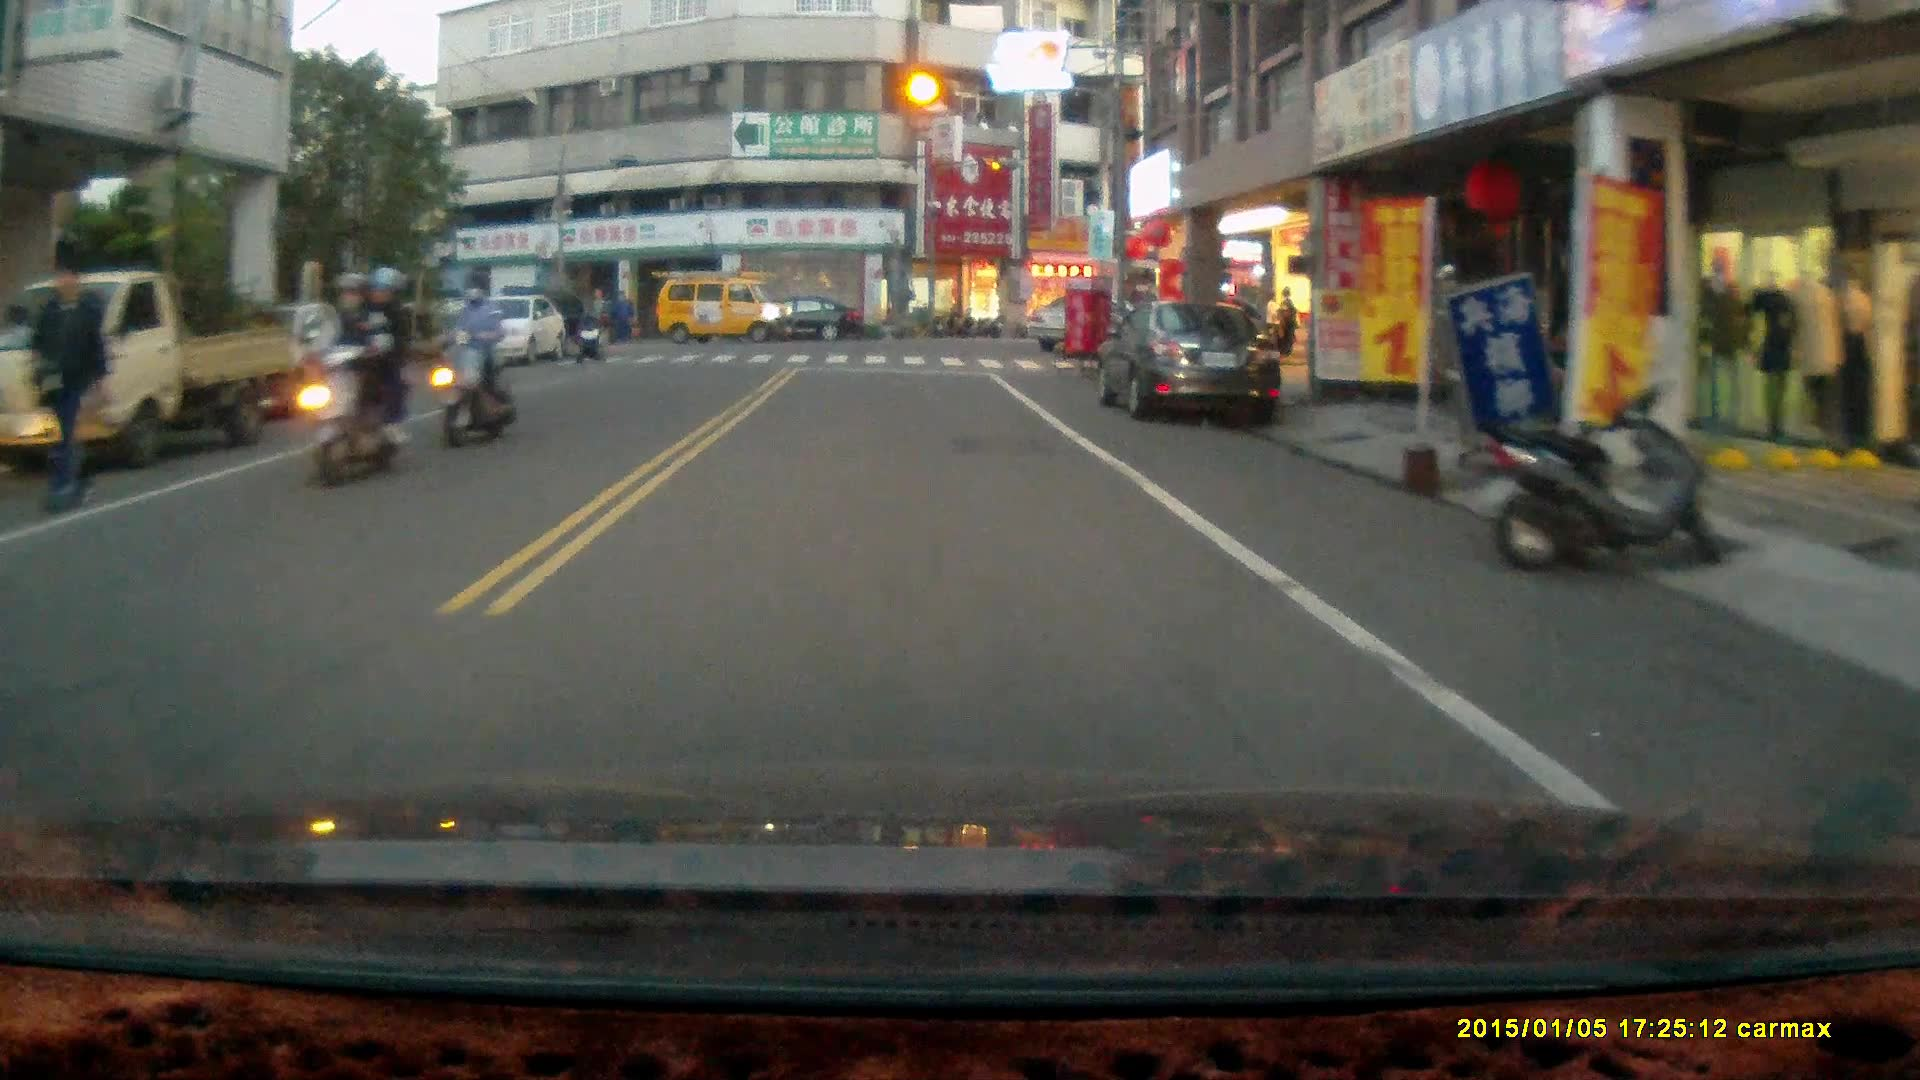pedestrian: (25, 257, 113, 510), (1274, 282, 1298, 362)
rider: (299, 260, 410, 489), (433, 270, 516, 449), (570, 307, 610, 364)
vehicle: (1, 268, 320, 471), (1089, 290, 1294, 436), (657, 266, 793, 342), (439, 290, 565, 366), (747, 290, 865, 341)
